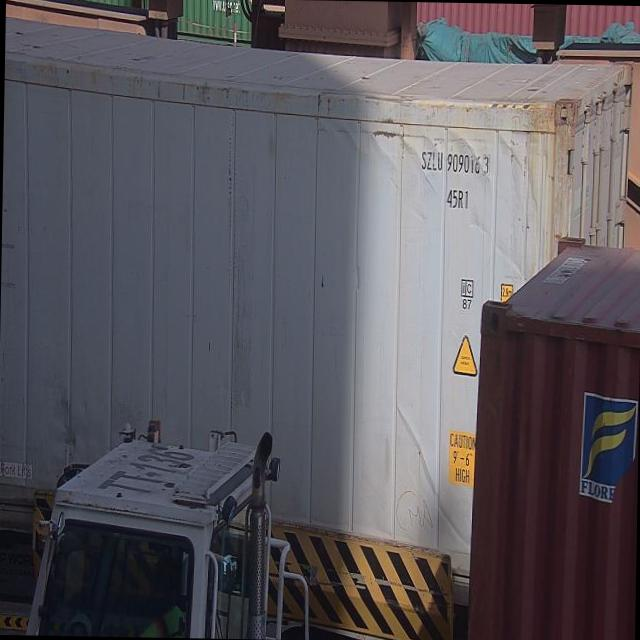Deframe_or_Dent: (353, 115, 432, 152)
Rust: (544, 85, 590, 178)
